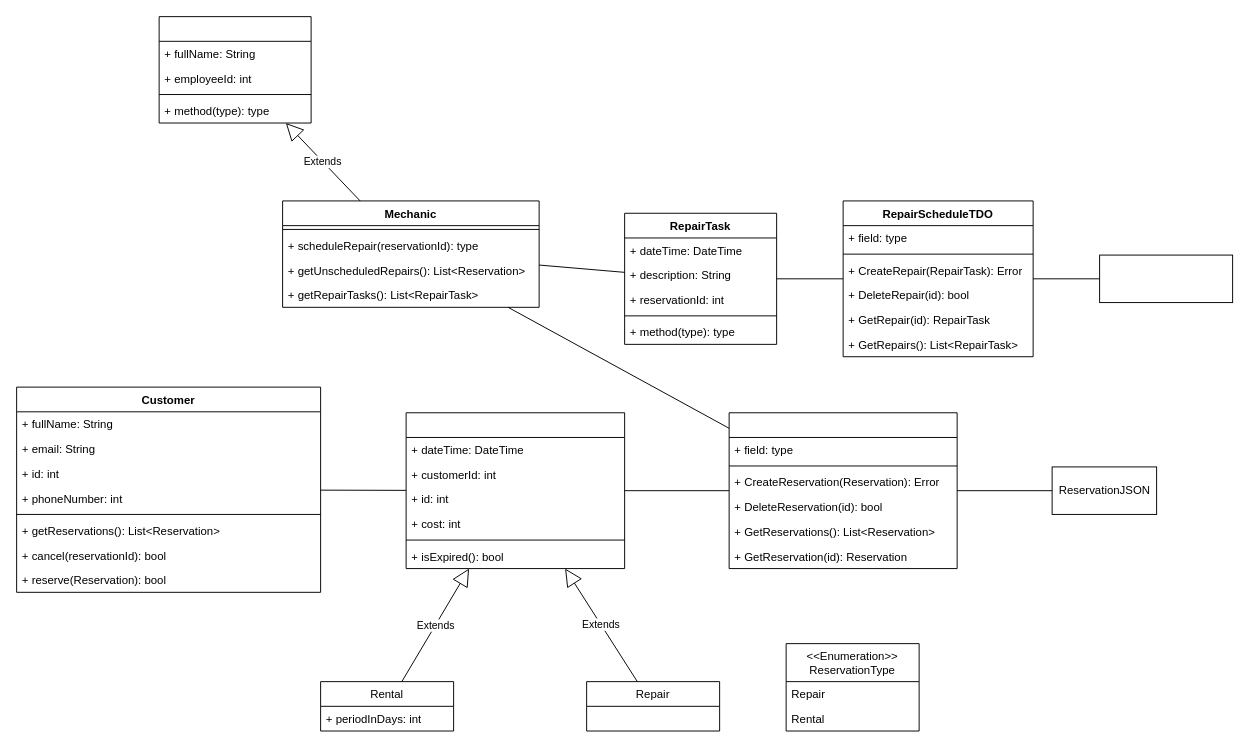
The diagram is 1249 pixels wide and 751 high, and some of its shapes have lost their labels. Here are the shapes that lost their labels. From the top down, the box of each, then its label:
(158, 16, 311, 123): Staff
(1099, 254, 1233, 303): RepairScheduleJSON
(405, 412, 625, 569): Reservation
(728, 412, 957, 569): ReservationDTO
